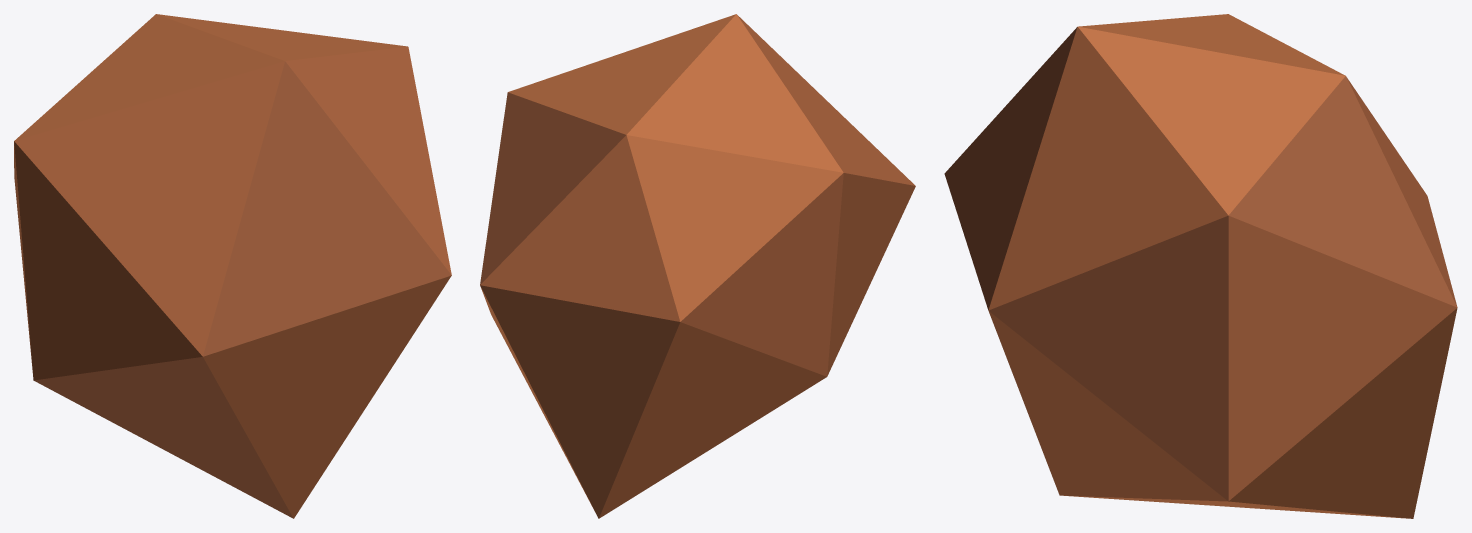
The model's file is SM_Rock_2.glb.
3 renders of one model, left to right at view 1: azimuth 30°, elevation 25°; view 2: azimuth 150°, elevation 25°; view 3: azimuth 270°, elevation 25°, orthographic. The views are drawn at different scales.
Visible parts, largest first — view 1: SM_Rock_2; view 2: SM_Rock_2; view 3: SM_Rock_2.
Part boxes in pixels (left/top/right/bottom): SM_Rock_2: left=14, top=14, right=451, bottom=518; SM_Rock_2: left=480, top=14, right=915, bottom=518; SM_Rock_2: left=944, top=14, right=1457, bottom=518.
Bounding box in the file's own units: 1.67 × 1.83 × 1.73.
1 material, 1 textured.
